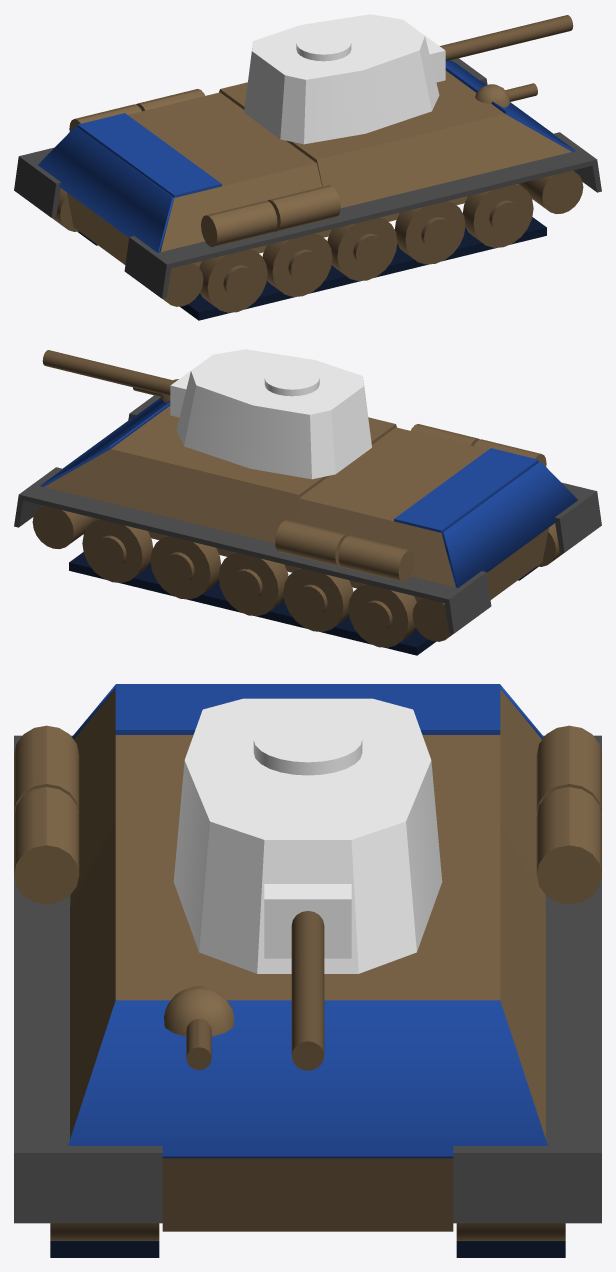
File: medium-tank.glb
3 renders of one model, top to bottom at view 1: azimuth 30°, elevation 25°; view 2: azimuth 150°, elevation 25°; view 3: azimuth 270°, elevation 25°, orthographic. The views are drawn at different scales.
Parts seen in each view (by area): view 1: medium-tank, torreta; view 2: medium-tank, torreta; view 3: medium-tank, torreta.
Part boxes in pixels (x1,y1,x2,y2): medium-tank: (14,58,601,320); torreta: (244,14,573,144); medium-tank: (14,379,601,655); torreta: (42,349,371,479); medium-tank: (14,684,601,1257); torreta: (173,698,442,1070).
Size of the model in its own units: 3.04 by 1.11 by 1.62.
